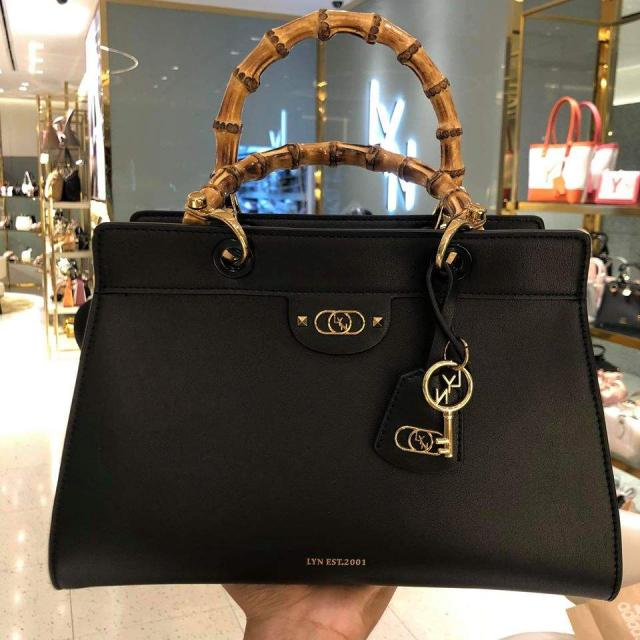Handbag: (59, 105, 596, 596)
